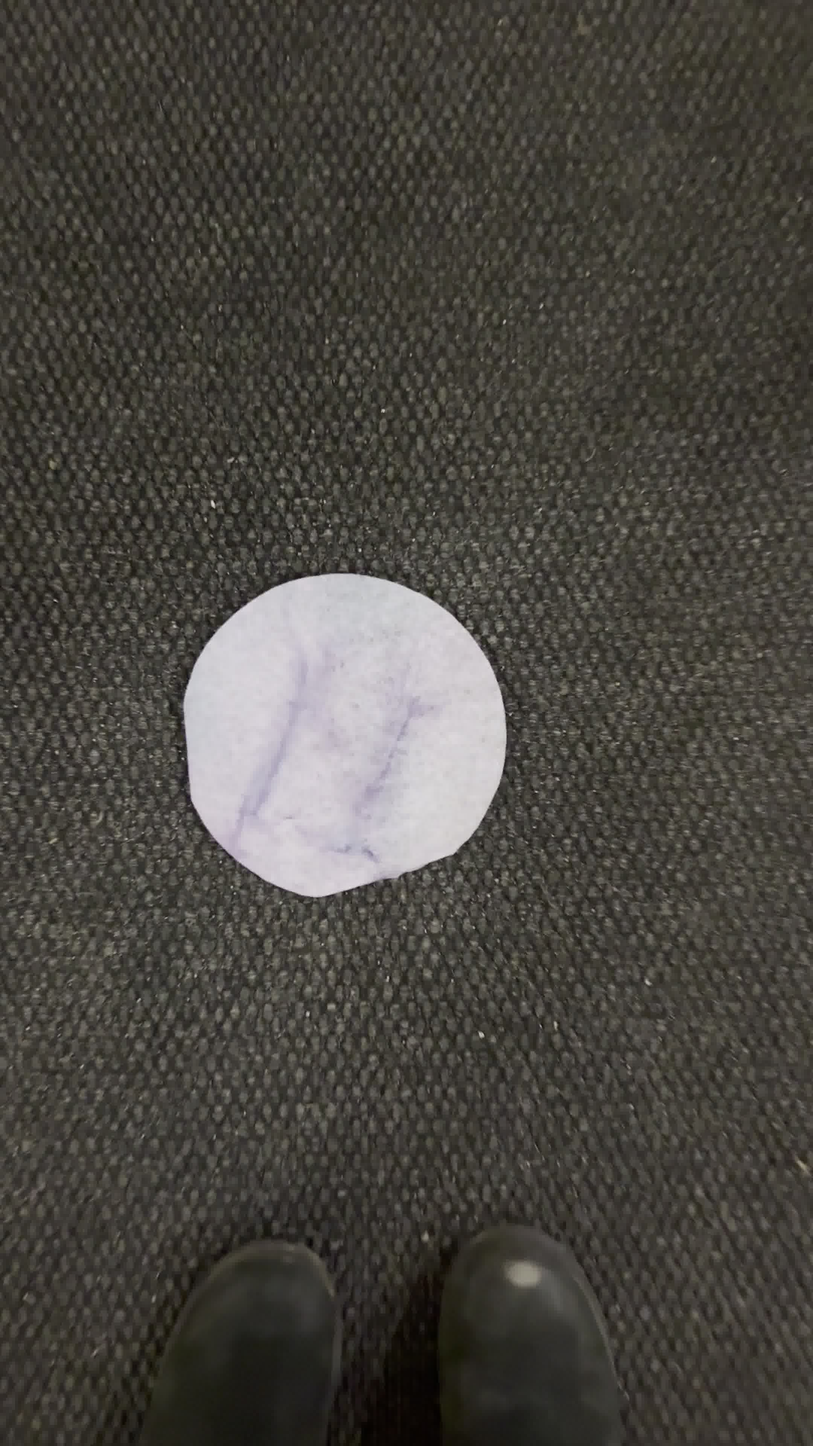Target: (176, 565, 520, 906)
